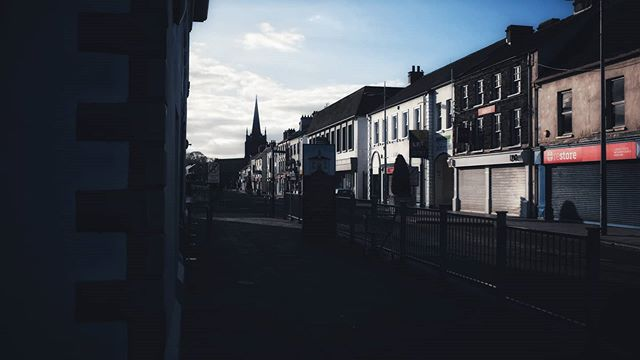building: (534, 1, 636, 222), (454, 35, 540, 215), (367, 58, 453, 206), (306, 84, 375, 202)
sky: (188, 1, 465, 134)
